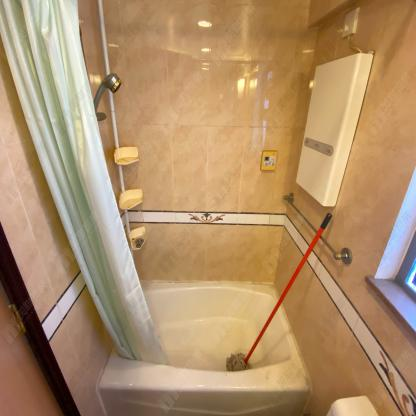Bathtub: (97, 281, 311, 416)
Water Heater: (295, 53, 374, 207)
